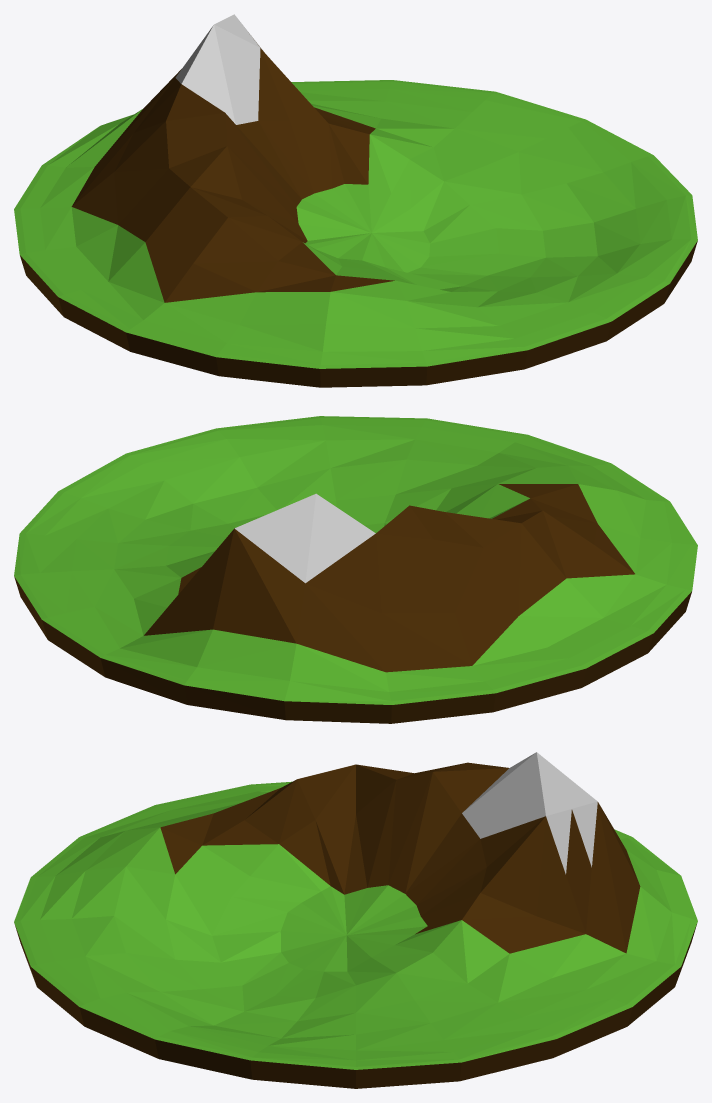
File: TestLandscapeLP_Circle_2.fbx
3 views of the same model, one above another, from view 1: azimuth 30°, elevation 25°; view 2: azimuth 150°, elevation 25°; view 3: azimuth 270°, elevation 25° (orthographic).
Visible parts, largest first — view 1: Sphere; view 2: Sphere; view 3: Sphere.
Boxes of the visible parts, left/top/right/bottom form: Sphere: left=14, top=14, right=697, bottom=387; Sphere: left=14, top=416, right=697, bottom=723; Sphere: left=14, top=752, right=697, bottom=1088.
Size of the model in its own units: 2000 by 649 by 2000.
